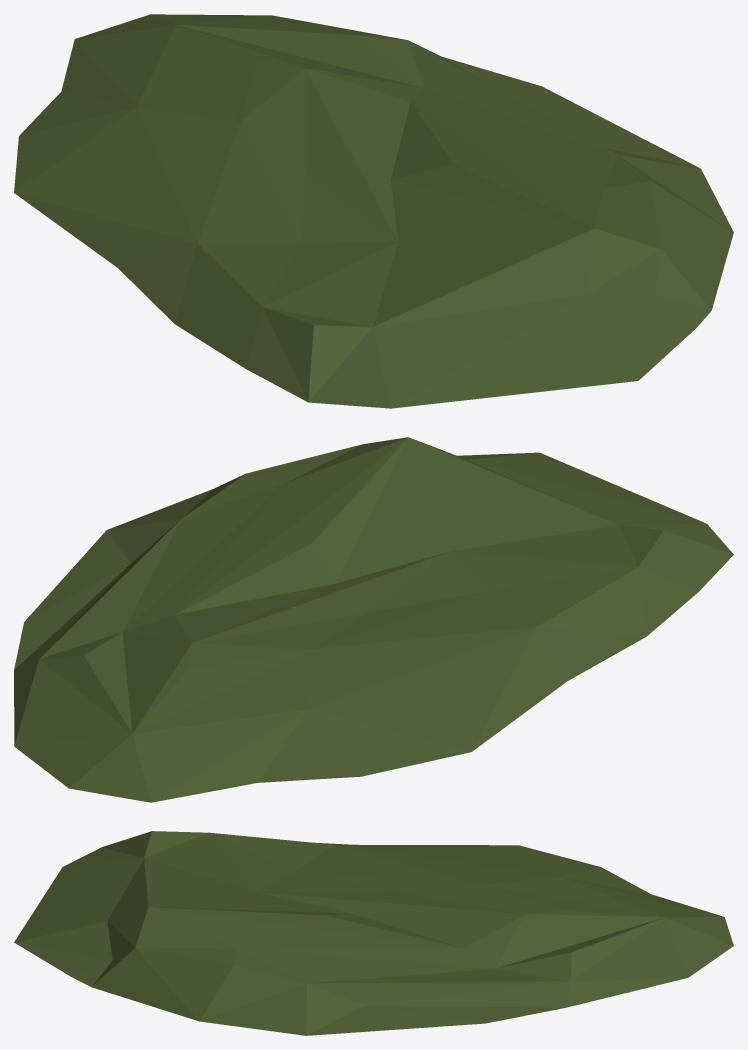
The model's file is SM_Env_GrassPatch_02.glb.
3 views of the same model, one above another, from view 1: azimuth 30°, elevation 25°; view 2: azimuth 150°, elevation 25°; view 3: azimuth 270°, elevation 25° (orthographic). The views are drawn at different scales.
Parts seen in each view (by area): view 1: SM_Env_GrassPatch_02; view 2: SM_Env_GrassPatch_02; view 3: SM_Env_GrassPatch_02.
Part boxes in pixels (bbox=[...]): SM_Env_GrassPatch_02: bbox=[14, 14, 733, 408]; SM_Env_GrassPatch_02: bbox=[14, 437, 733, 802]; SM_Env_GrassPatch_02: bbox=[14, 831, 733, 1035].
Size of the model in its own units: 0.0111 by 0.0014 by 0.0173.
